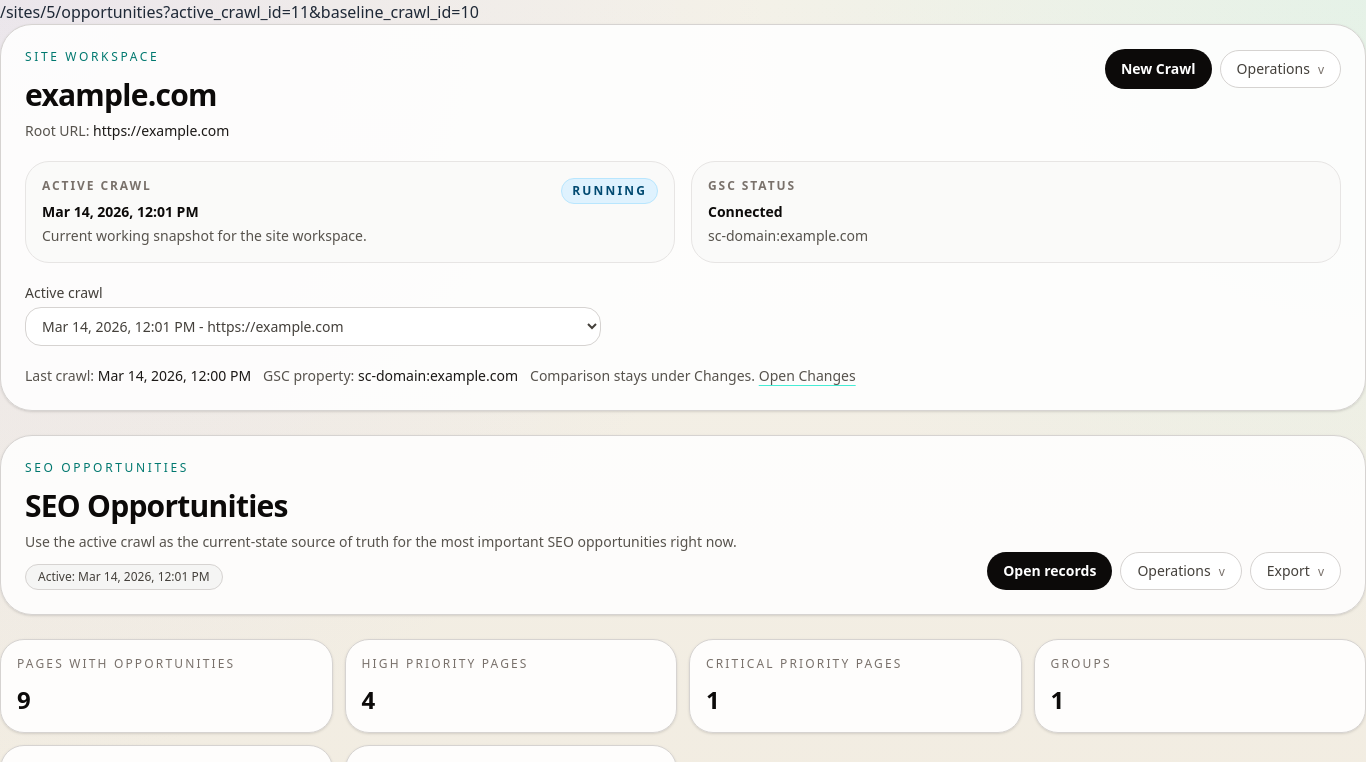
it: SiteWorkspaceLayout › renders top-level opportunities as current-state and keeps compare under /changes
Expected: the heading "SEO Opportunities" is shown, [25,485,288,526]
Click the text "Operations" in the row of "Export" at (1174, 570), box [1137,561,1211,580]
(page scrolled)
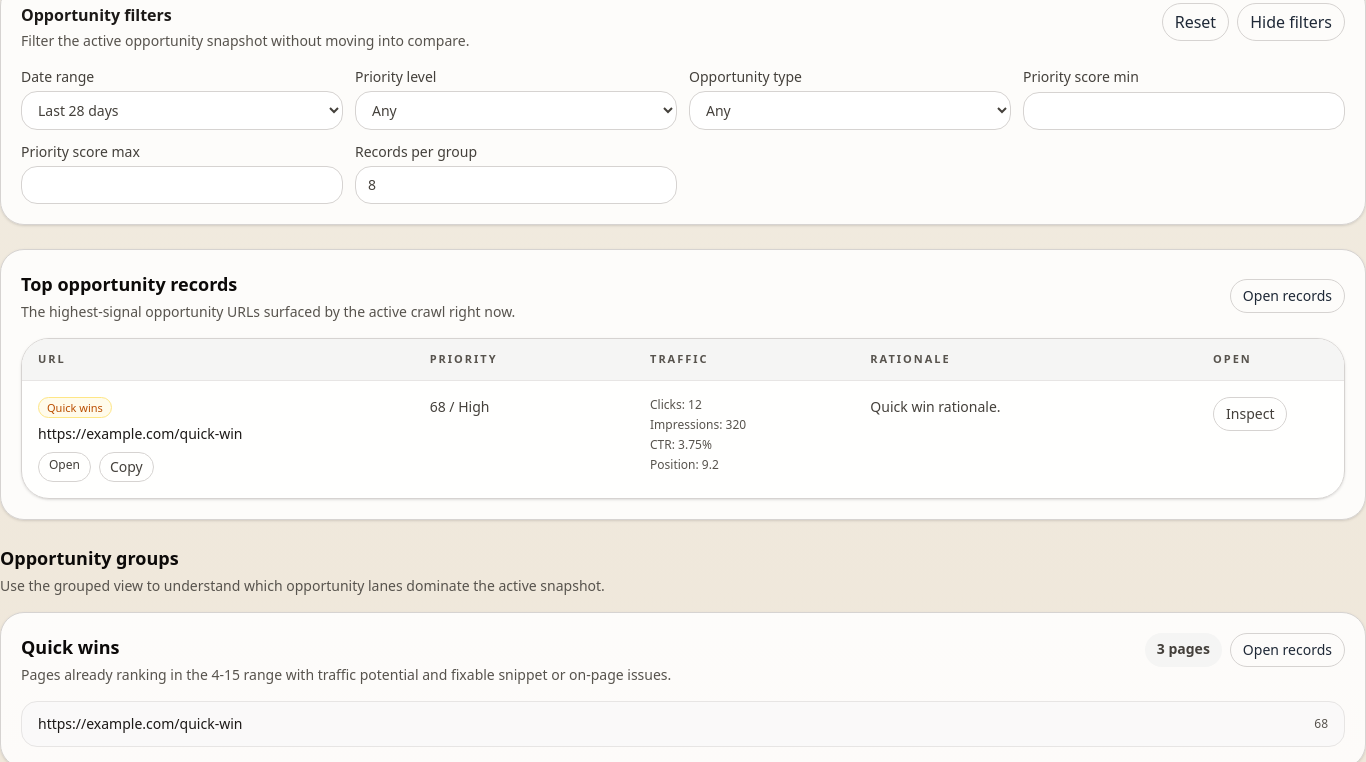
Expected: the text "Quick win rationale." is shown, [870,396,1001,416]
Click the button "Inspect" at (1250, 414), box [1213,396,1288,430]
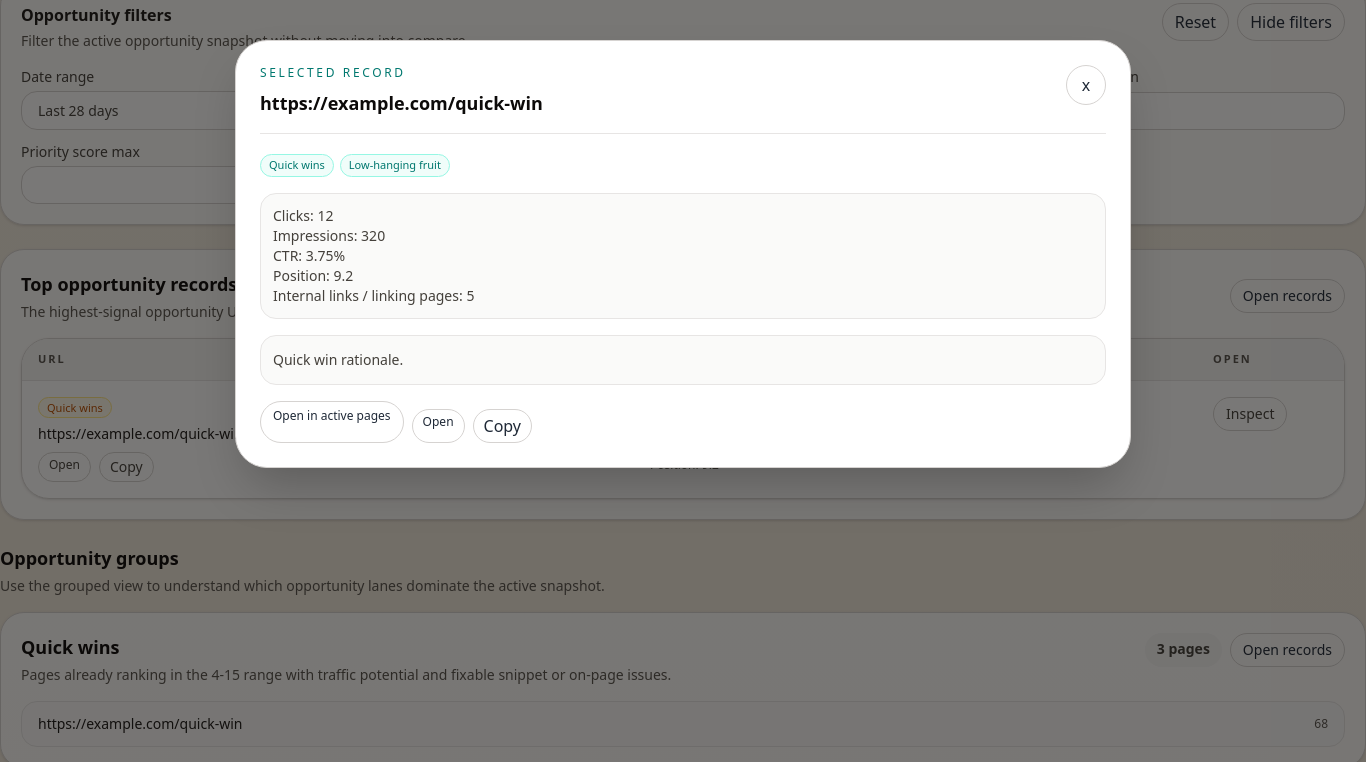
Expected: the text "Selected record" is shown, [260,64,406,81]
Expected: the link "Open in active pages" is shown, [260,400,404,442]
Click the button named "Close" at (1086, 85), box [1066,65,1106,105]
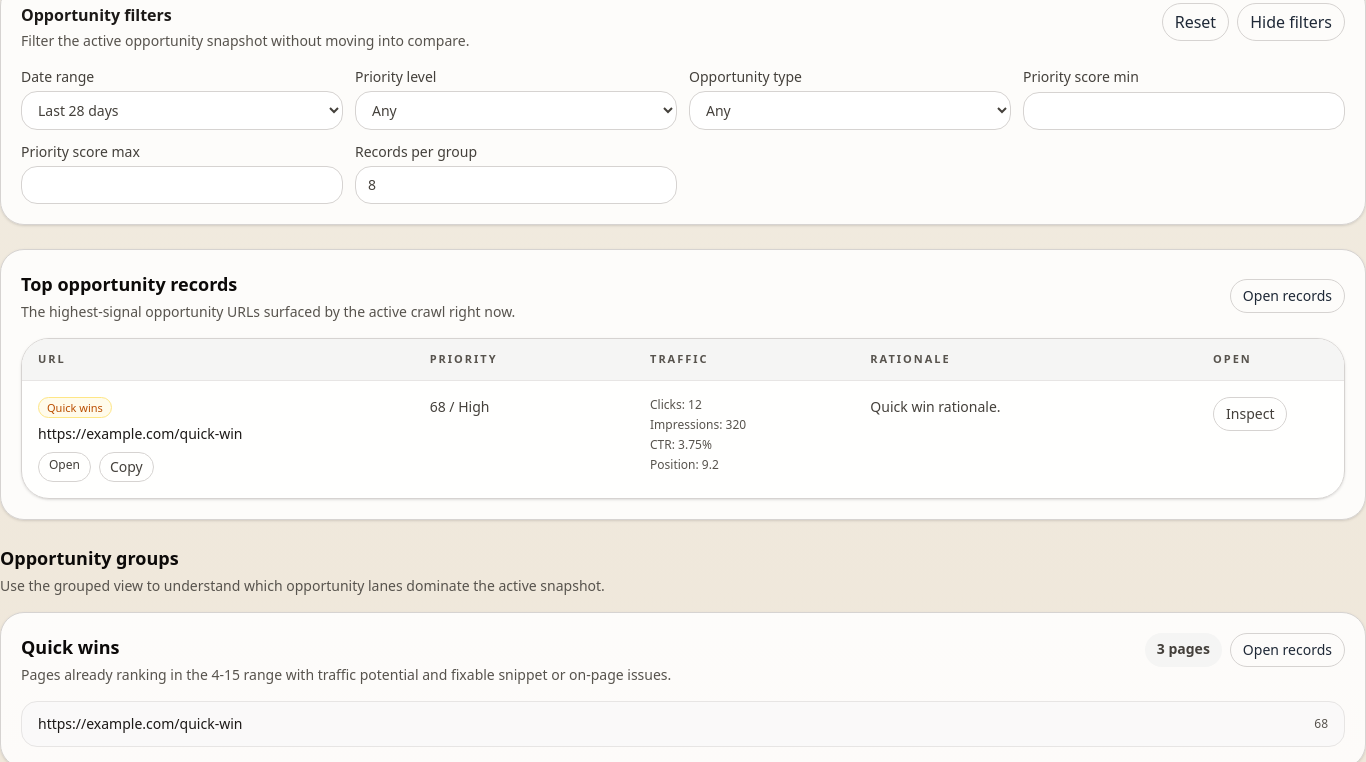
Expected: the dialog is gone
